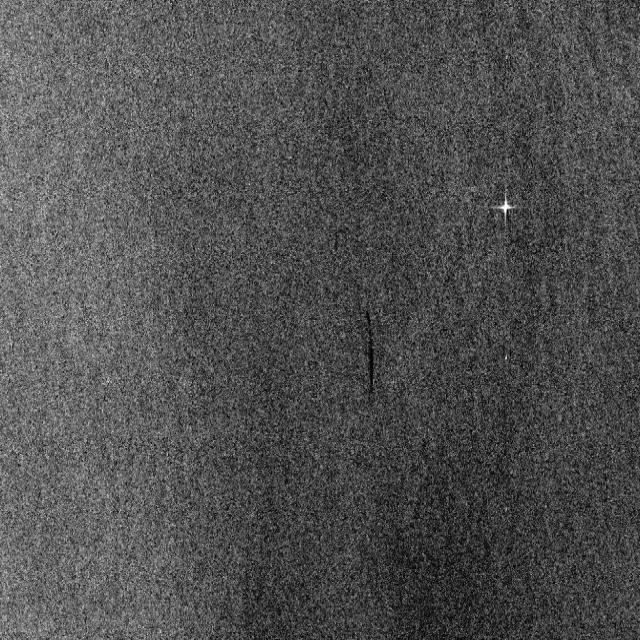oil-spill: (352, 294, 384, 404)
ship: (495, 184, 518, 230)
